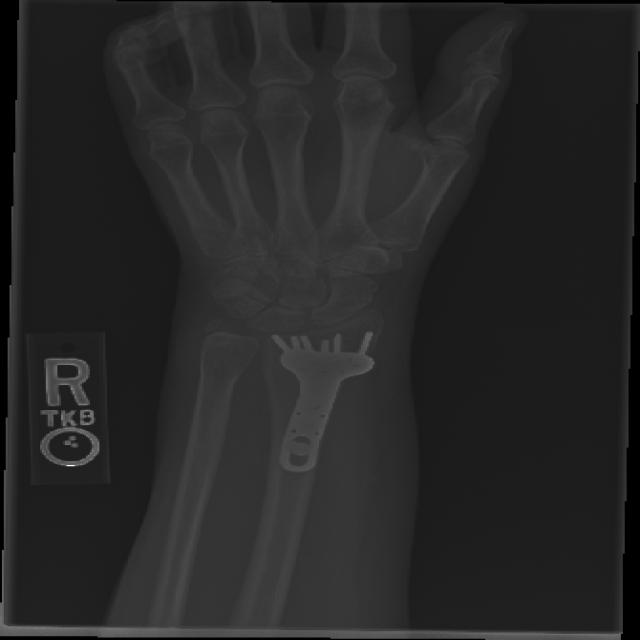wrist positive: (322, 304, 400, 356)
